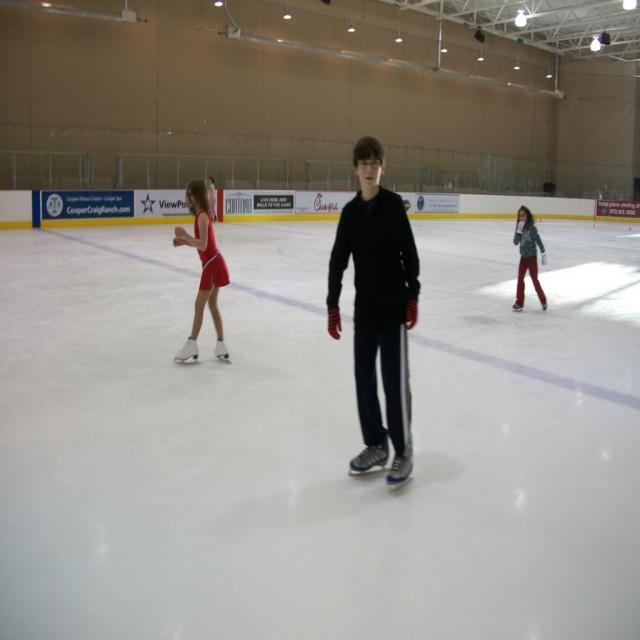nomask: (357, 153, 381, 189), (186, 187, 194, 206), (519, 209, 526, 224)
